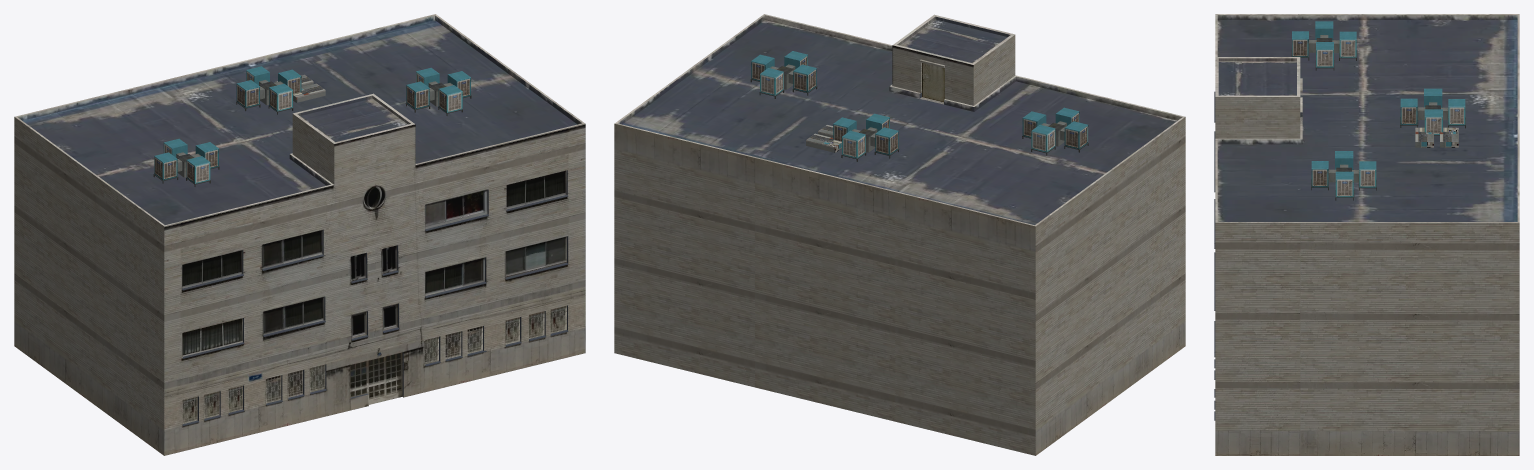
The model's file is hosp-s1.glb.
3 renders of one model, left to right at view 1: azimuth 30°, elevation 25°; view 2: azimuth 150°, elevation 25°; view 3: azimuth 270°, elevation 25°, orthographic.
Parts seen in each view (by area): view 1: Building00_House_0, Building00_Building_Roof_Detail_0; view 2: Building00_House_0, Building00_Building_Roof_Detail_0; view 3: Building00_House_0, Building00_Building_Roof_Detail_0.
Boxes of the visible parts, box(x1,y1,x2,y2) form: Building00_House_0: box(14, 14, 585, 455); Building00_Building_Roof_Detail_0: box(153, 66, 471, 186); Building00_House_0: box(614, 14, 1185, 455); Building00_Building_Roof_Detail_0: box(750, 51, 1088, 161); Building00_House_0: box(1214, 14, 1519, 455); Building00_Building_Roof_Detail_0: box(1291, 21, 1465, 200).
Bounding box in the file's own units: 13.52 × 8.29 × 8.36.
Materials: 2 (2 with a texture image).
